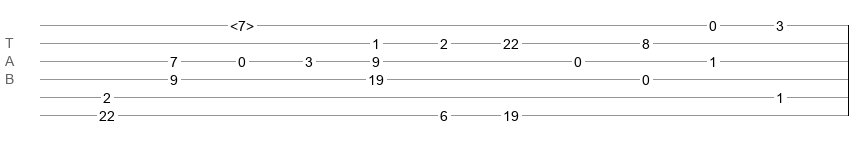0: (238, 54, 246, 64), (574, 54, 582, 64), (642, 72, 650, 82), (709, 18, 717, 28)
1: (372, 36, 380, 46), (709, 54, 717, 64), (776, 90, 784, 100)
19: (368, 72, 384, 82), (503, 108, 519, 118)
2: (103, 90, 111, 100), (440, 36, 448, 46)
22: (99, 108, 115, 118), (503, 36, 519, 46)
3: (305, 54, 313, 64), (776, 18, 784, 28)
6: (440, 108, 448, 118)
7: (170, 54, 178, 64)
8: (642, 36, 650, 46)
9: (170, 72, 178, 82), (372, 54, 380, 64)
harmonic: (230, 18, 254, 28)
